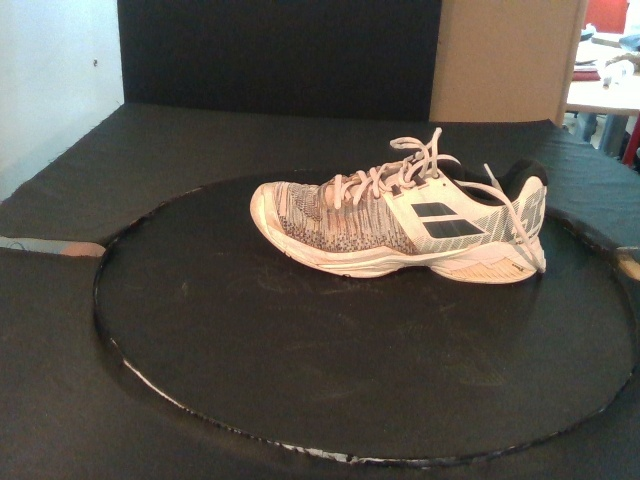shoe: (249, 143, 549, 286)
